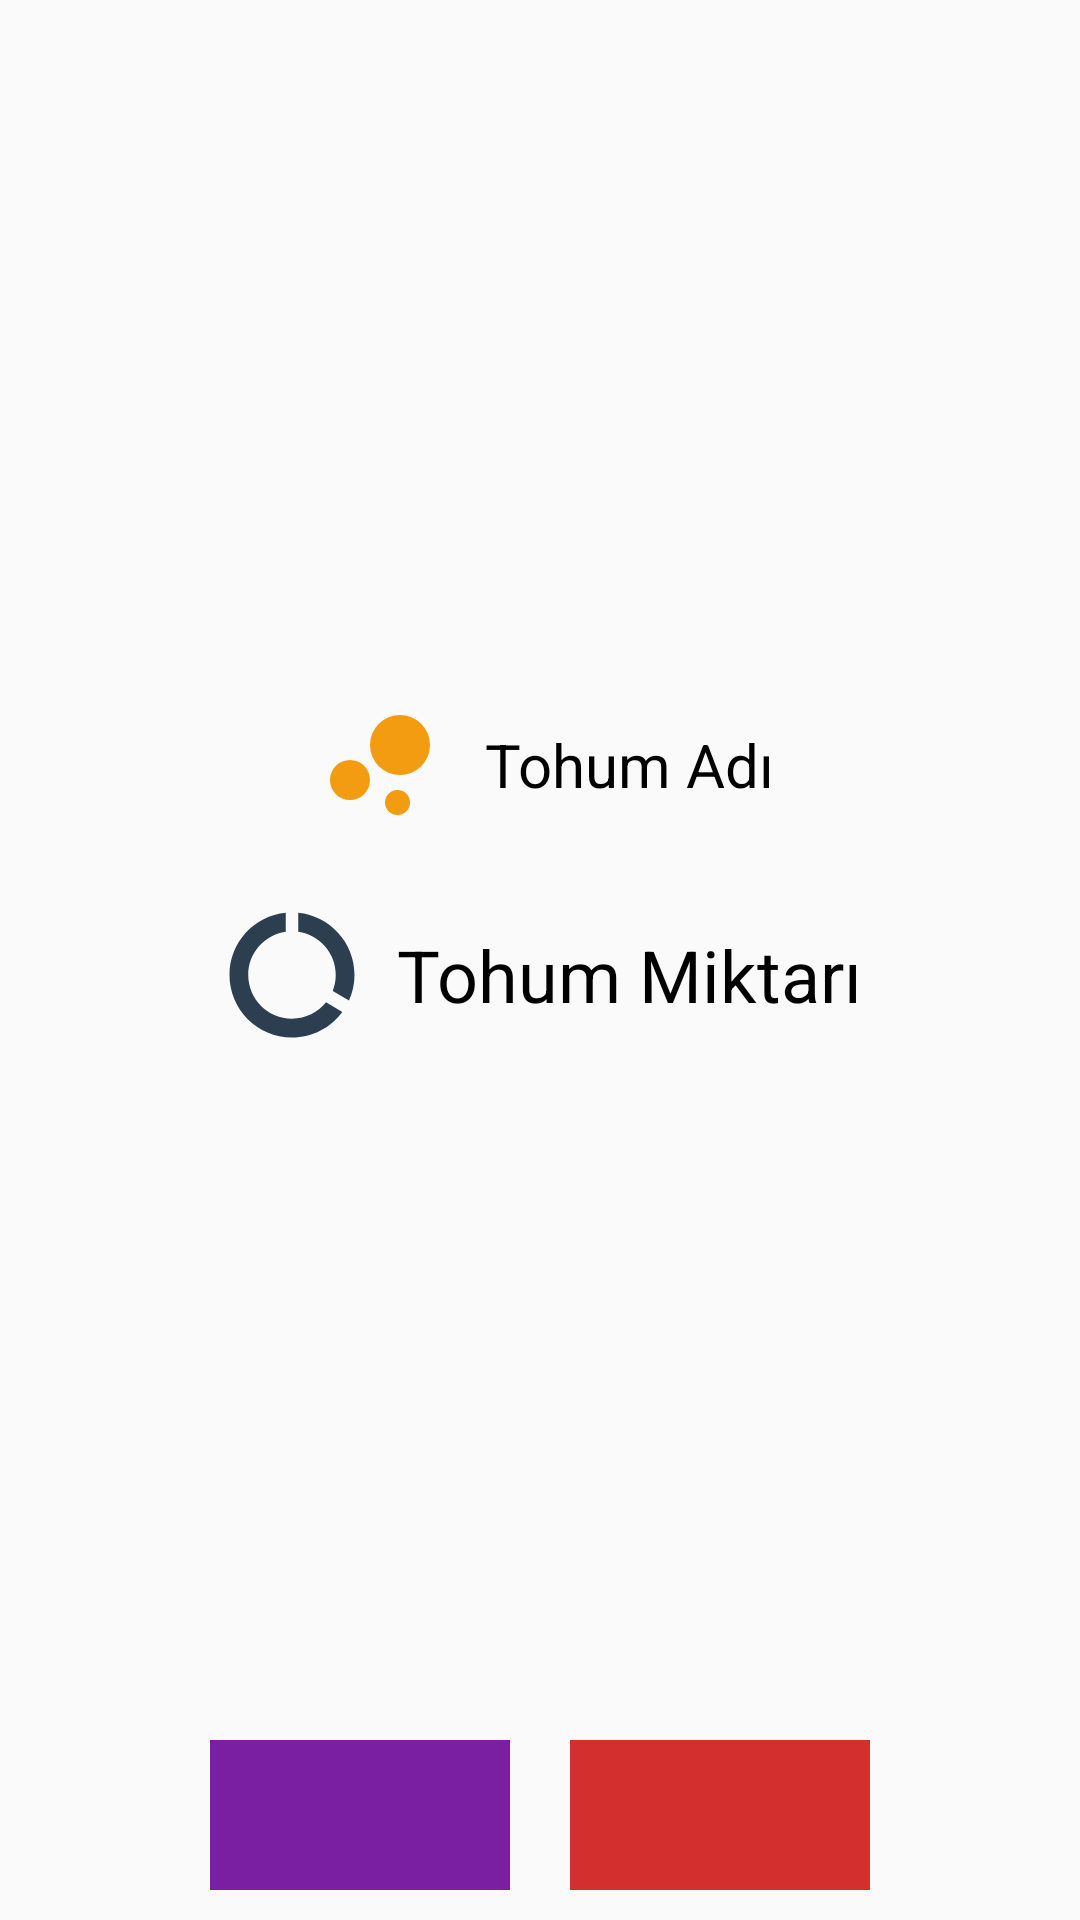

Icons on this 1080 x 1920 Android screen, each with its box as (x1, y1, x2, y2):
Atılan Tohum: (330, 715, 430, 815)
